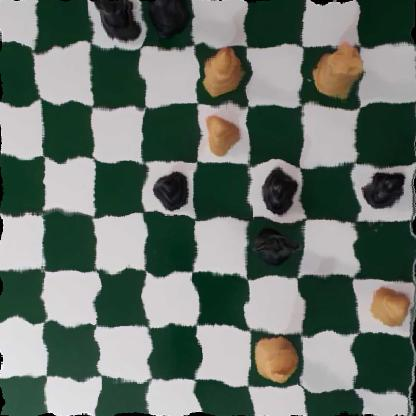black-king: (146, 0, 192, 38)
black-knight: (251, 223, 302, 268)
black-pawn: (361, 166, 407, 211), (150, 169, 191, 214), (262, 169, 298, 211)
black-rook: (92, 0, 142, 46)
white-bishop: (201, 43, 240, 95)
white-king: (251, 331, 297, 384)
white-pawn: (367, 284, 413, 331), (200, 108, 238, 154)
white-rook: (311, 43, 363, 102)
